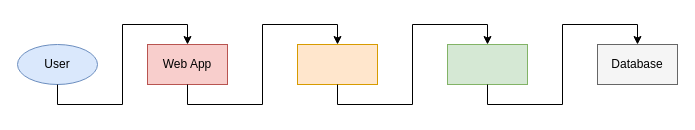
The diagram is 695 pixels wide and 130 high, and some of its shapes have lost their labels. Each missing label, with the centre of its shape:
"API Gateway" belongs at (337,64).
"Microservices" belongs at (487,64).
